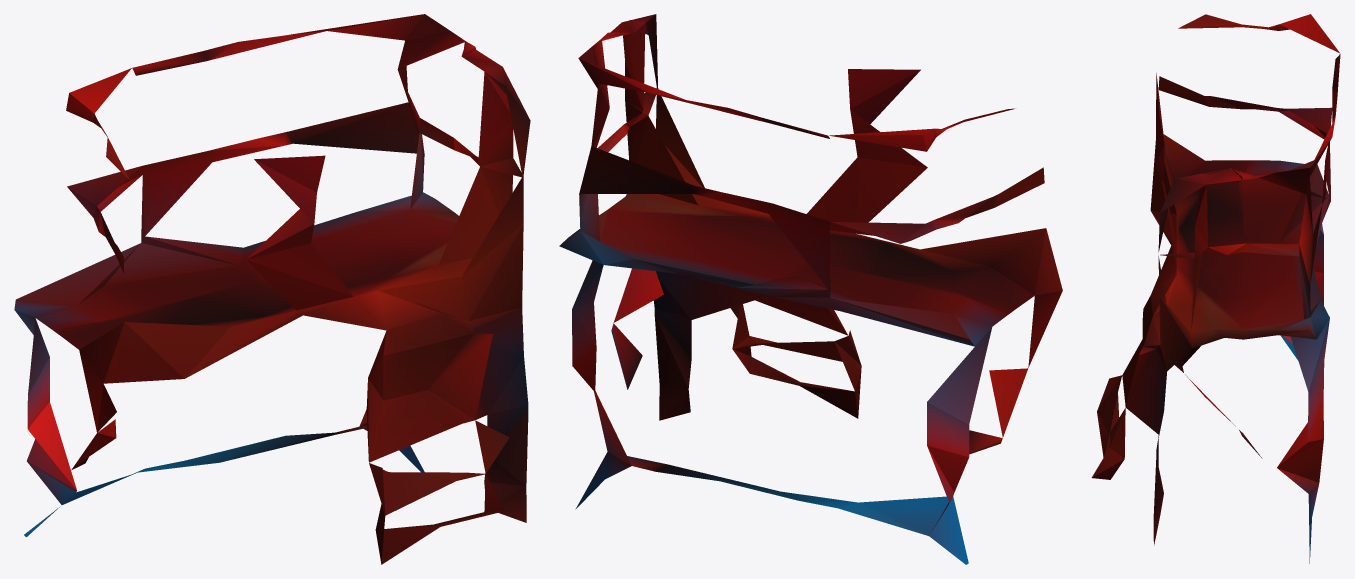
The picture shows the model from 3 angles, left to right: view 1: azimuth 30°, elevation 25°; view 2: azimuth 150°, elevation 25°; view 3: azimuth 270°, elevation 25°; orthographic projection. The views are drawn at different scales.
Size of the model in its own units: 2.47 by 2.6 by 1.46.
